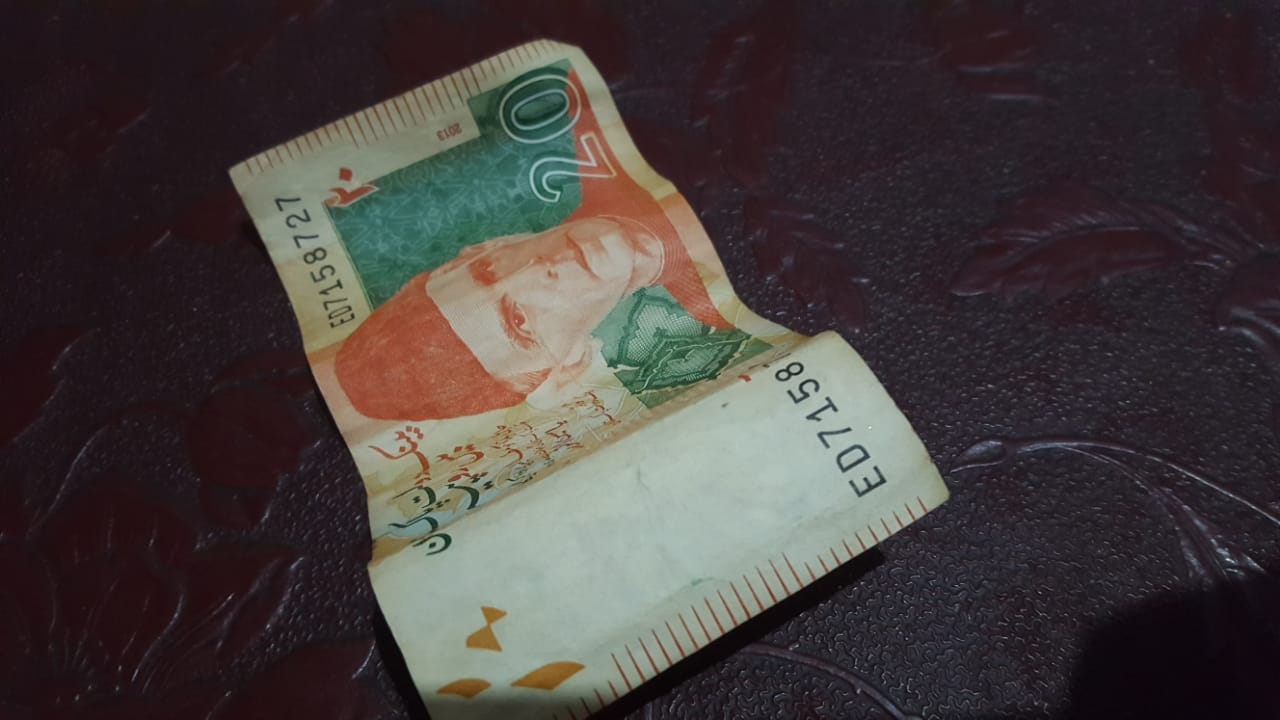20 rupee: (204, 32, 957, 707)
